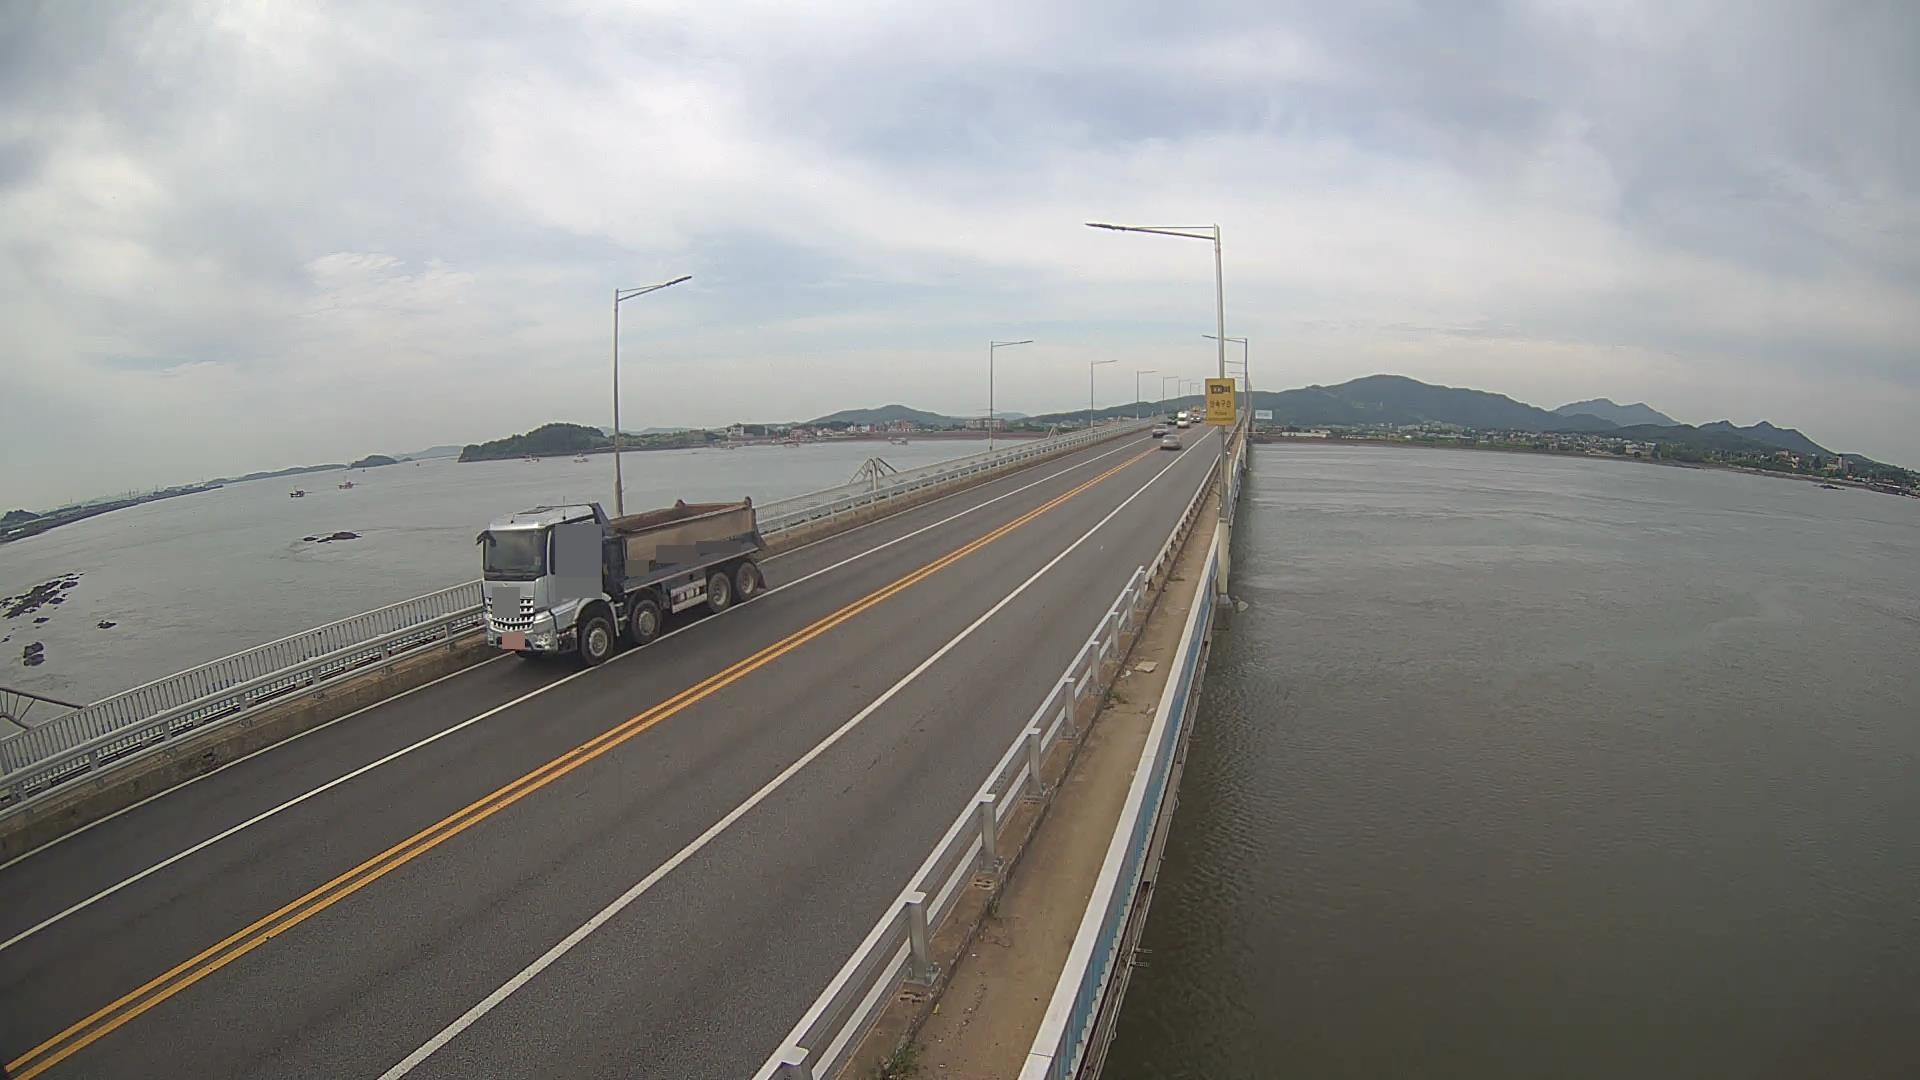정상차량: (473, 497, 770, 669)
